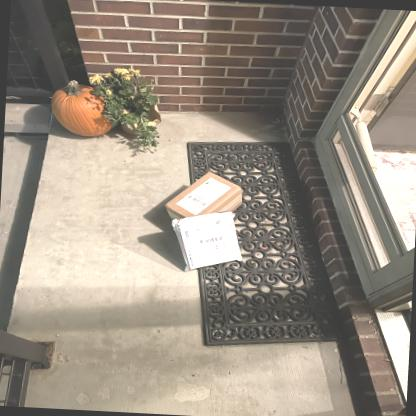box: (163, 172, 242, 220)
plastic_bag: (172, 211, 242, 272)
